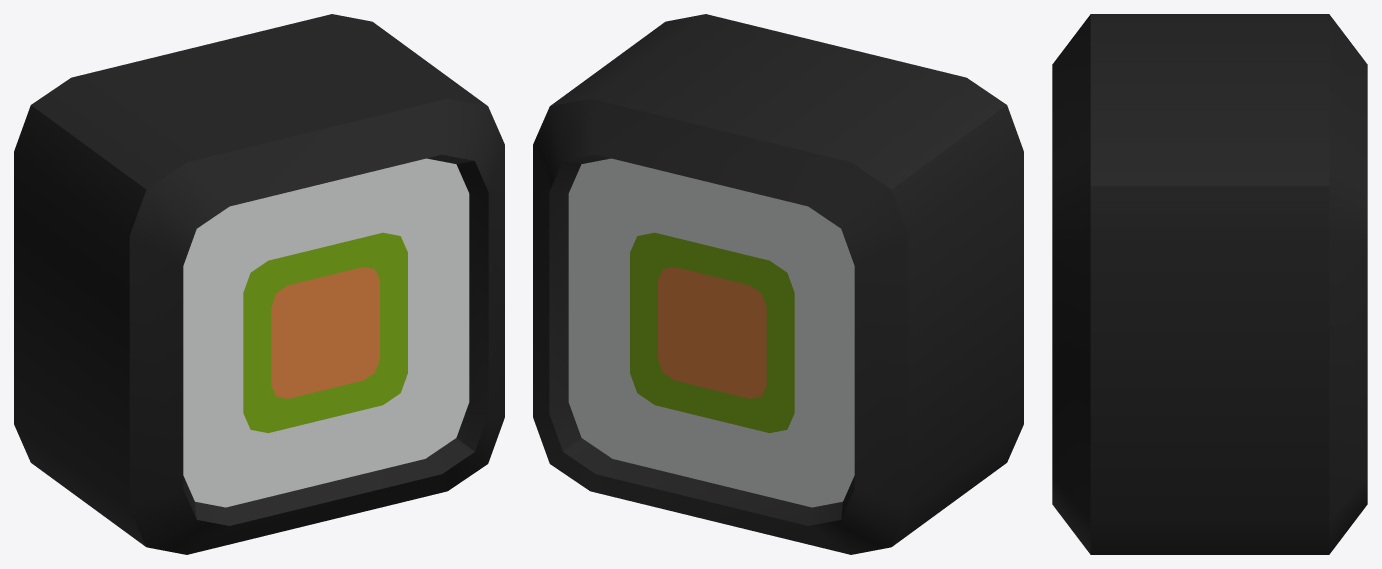
File: roll.glb
3 renders of one model, left to right at view 1: azimuth 30°, elevation 25°; view 2: azimuth 150°, elevation 25°; view 3: azimuth 270°, elevation 25°, orthographic. The views are drawn at different scales.
Parts seen in each view (by area): view 1: Food_Roll; view 2: Food_Roll; view 3: Food_Roll.
Part boxes in pixels (<box>): Food_Roll: <box>14,14,504,554</box>; Food_Roll: <box>533,14,1023,554</box>; Food_Roll: <box>1052,14,1367,554</box>.
Bounding box in the file's own units: 0.4333 × 0.4333 × 0.3054.
1 material, 1 textured.
